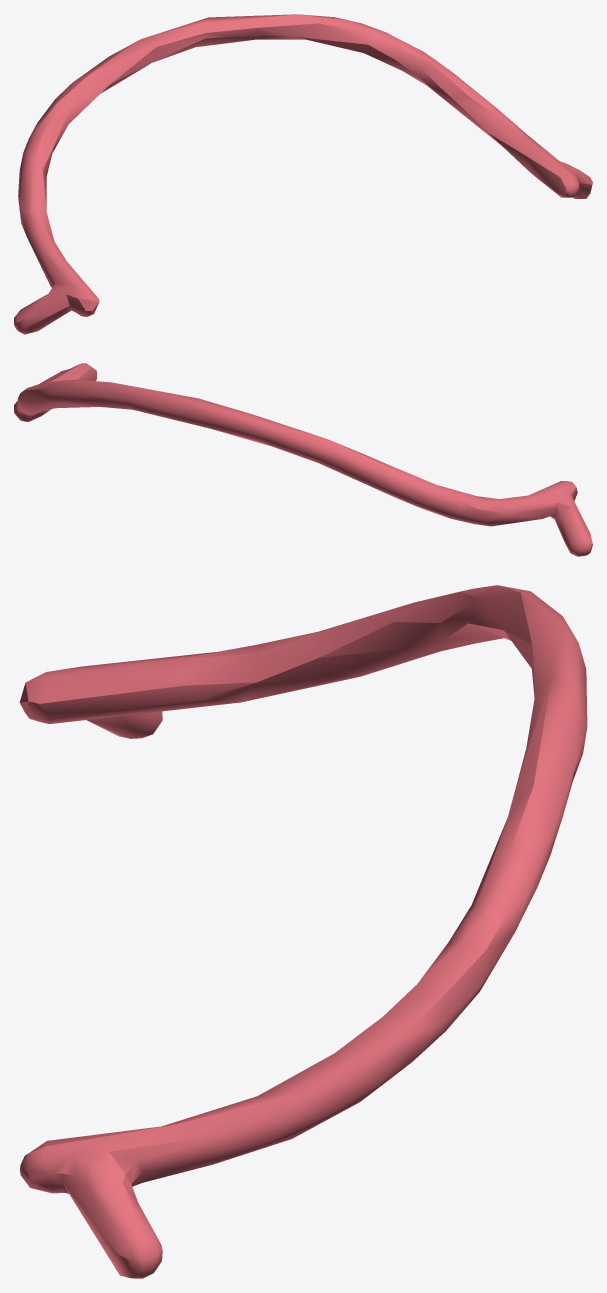
Rendered from fma50775_fj4979.glb.
3 renders of one model, top to bottom at view 1: azimuth 30°, elevation 25°; view 2: azimuth 150°, elevation 25°; view 3: azimuth 270°, elevation 25°, orthographic. The views are drawn at different scales.
Visible parts, largest first — view 1: FMA50775_FJ4979; view 2: FMA50775_FJ4979; view 3: FMA50775_FJ4979.
Part boxes in pixels (bbox=[...]): FMA50775_FJ4979: bbox=[14, 14, 592, 334]; FMA50775_FJ4979: bbox=[14, 363, 592, 556]; FMA50775_FJ4979: bbox=[19, 585, 587, 1278].
Bounding box in the file's own units: 0.0233 × 0.0064 × 0.00993.
